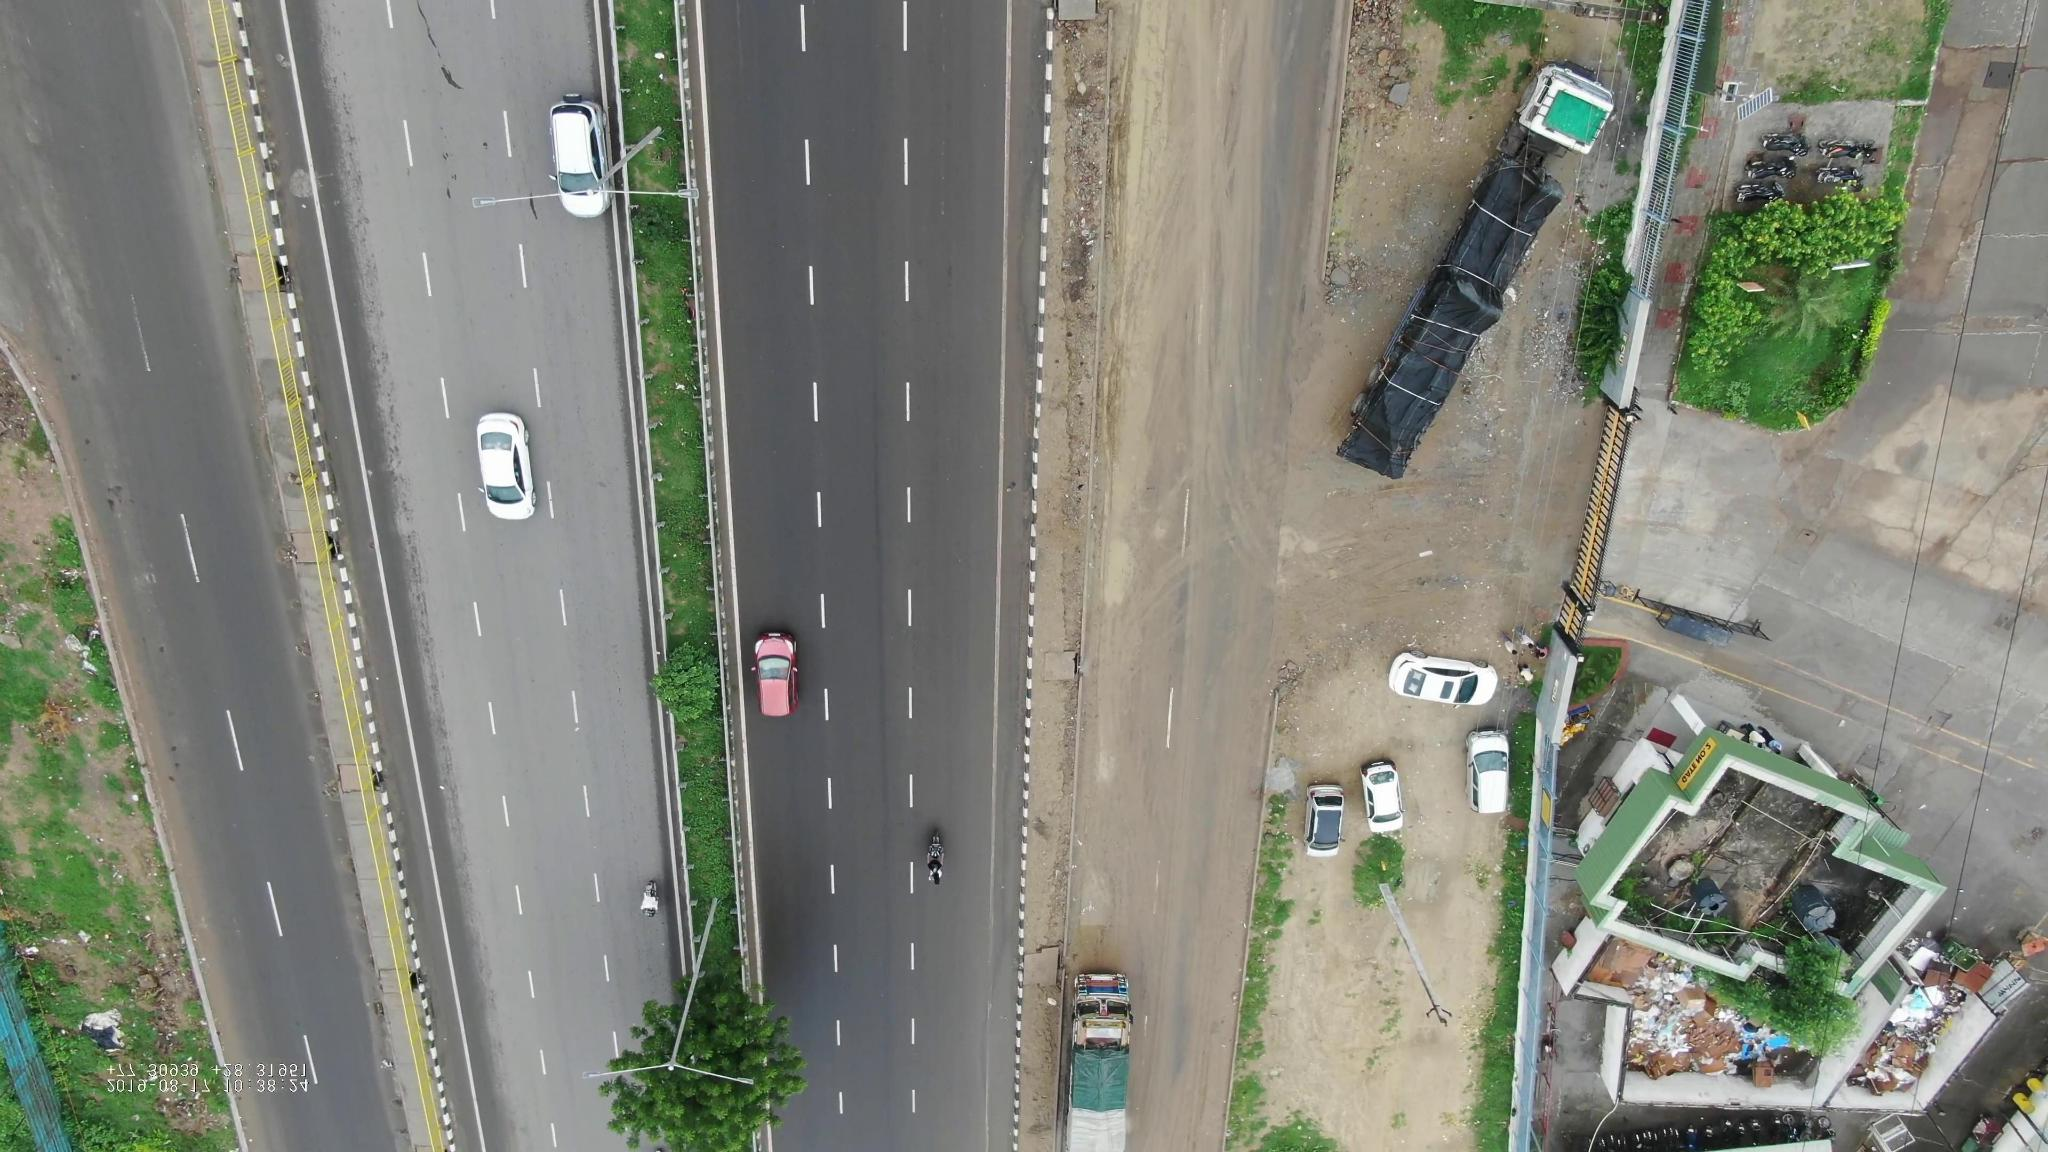Muddy_road: (1083, 643, 1197, 976), (1132, 13, 1235, 318), (1117, 331, 1215, 627)
